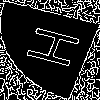H: (25, 24, 92, 73)
